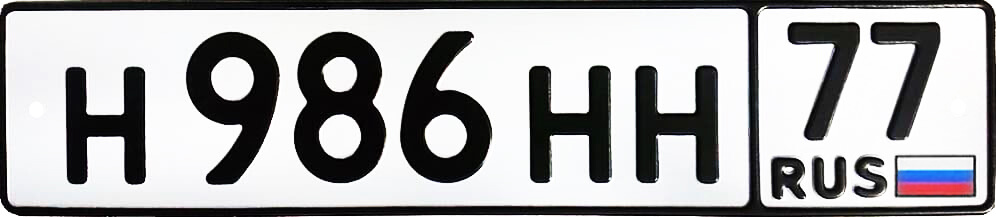number_plate: (5, 6, 982, 206)
